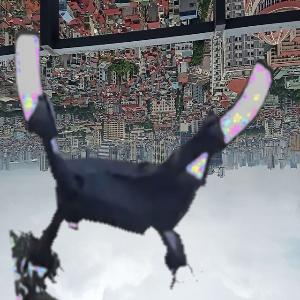drone: (2, 16, 286, 300)
